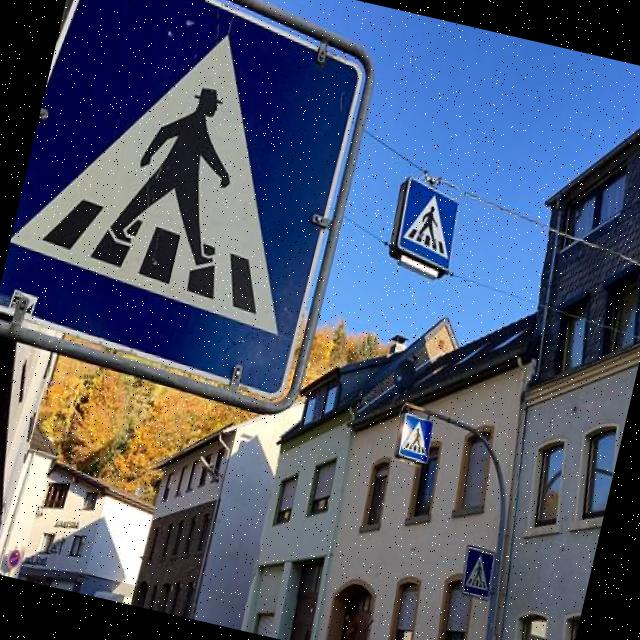crosswalk: (0, 0, 387, 399), (383, 166, 478, 280), (388, 403, 447, 473), (448, 536, 502, 606)
